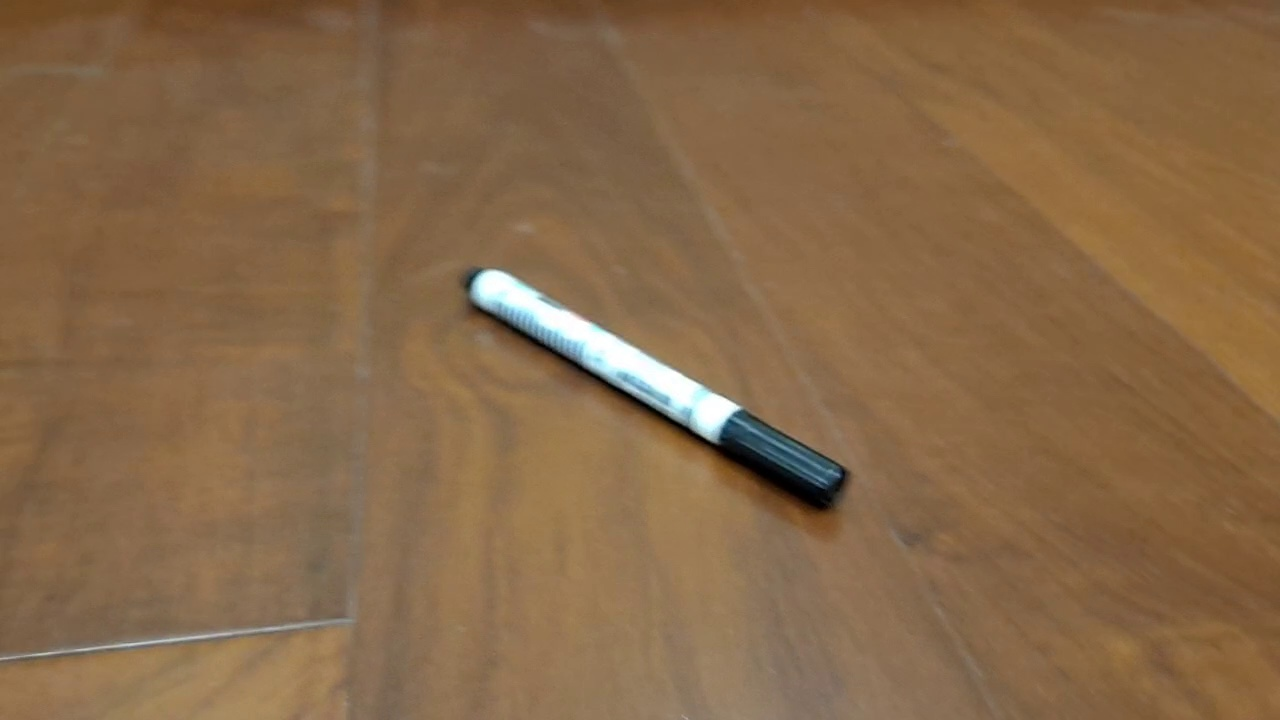pen: (457, 264, 855, 514)
